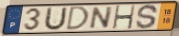3: (23, 7, 43, 32)
D: (65, 5, 91, 32)
H: (112, 4, 137, 30)
N: (88, 6, 115, 30)
S: (135, 3, 159, 30)
U: (43, 6, 69, 32)
